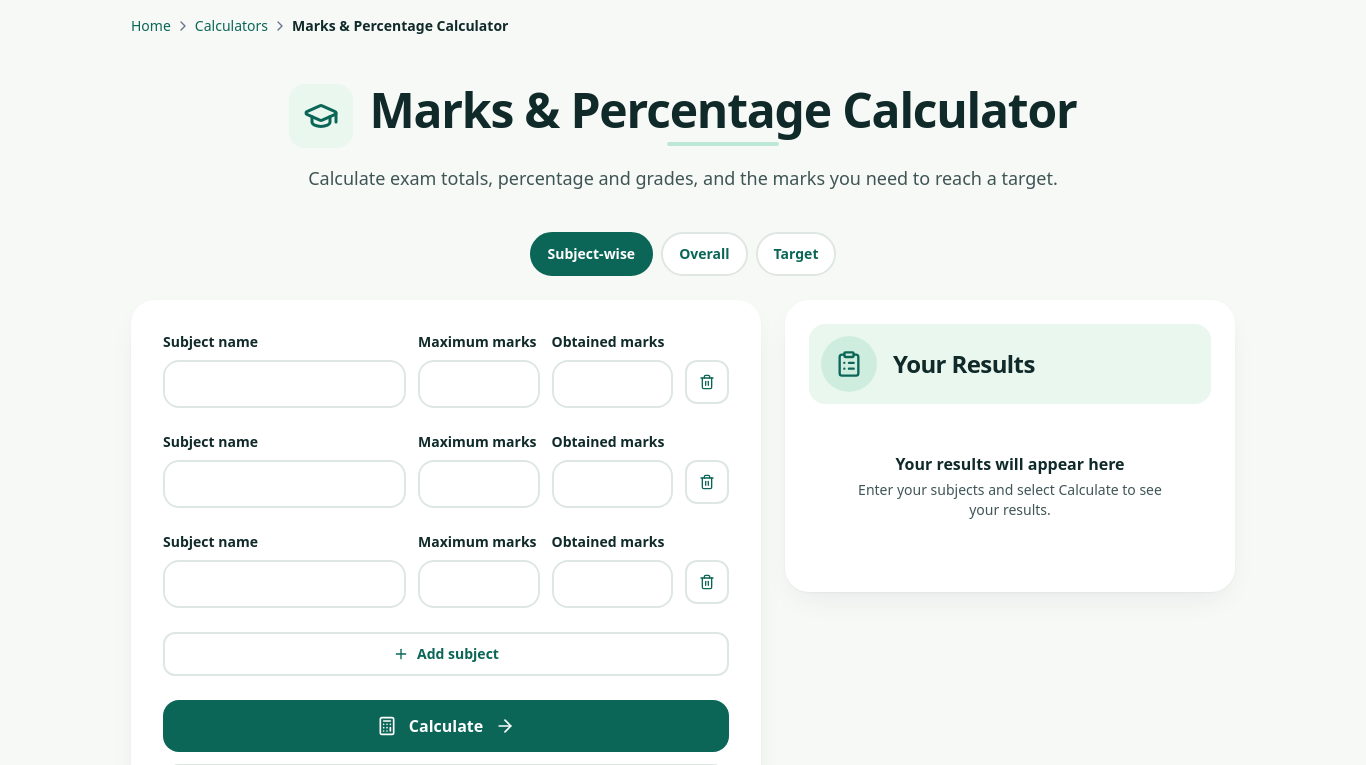
subject-wise mode › removes a subject, but always keeps one
Click the button named "Remove subject 3". click: (707, 582)
box: [685, 560, 729, 604]
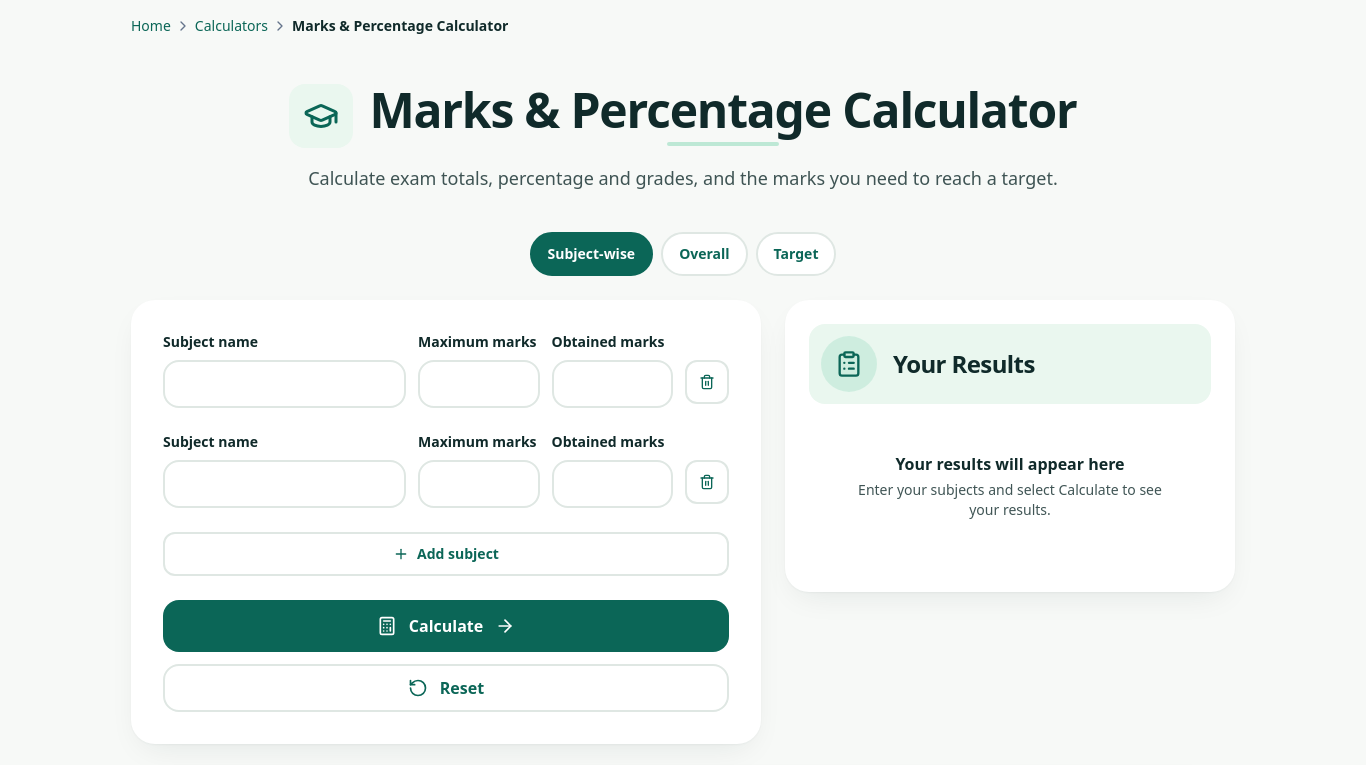
Click the button named "Remove subject 2". click: (707, 482)
box: [685, 460, 729, 504]
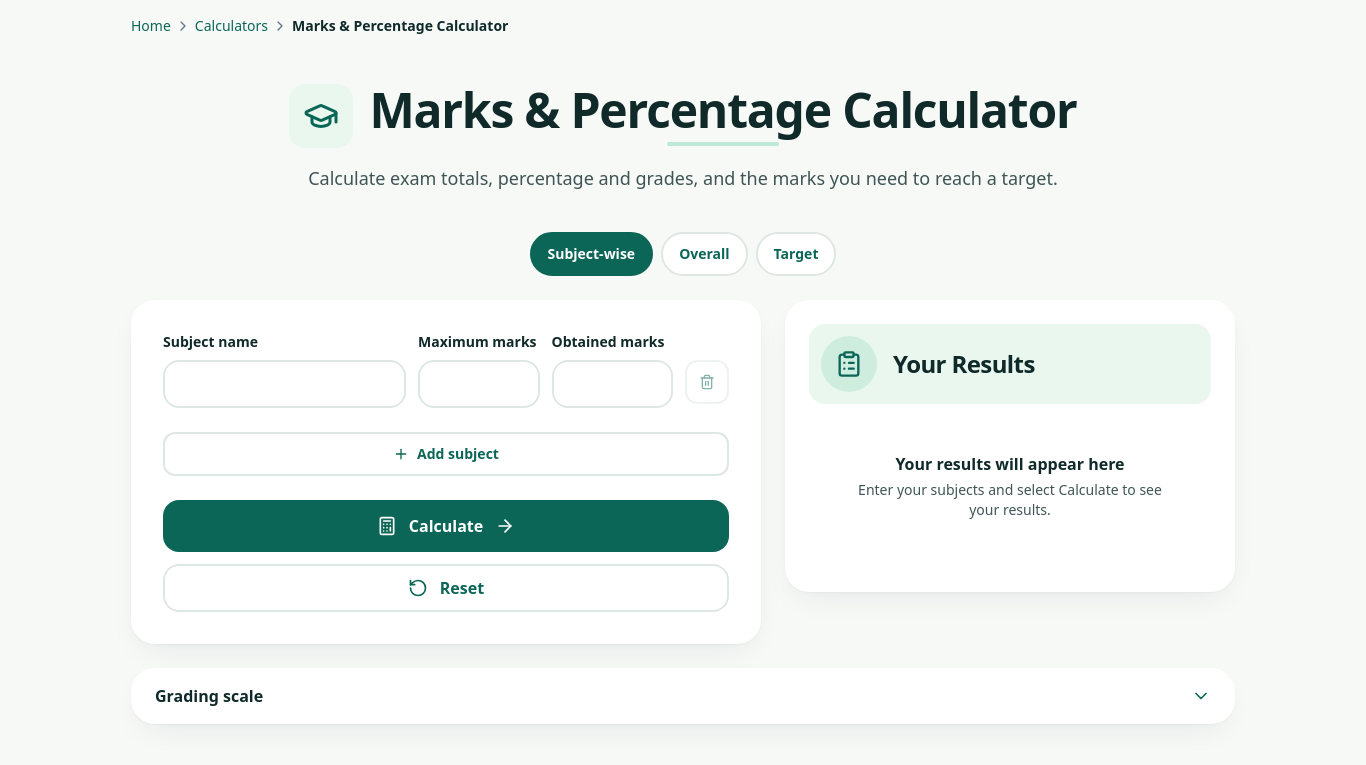
Expected: the field labelled "Subject 2 Subject name" is not shown
Expected: the button named "Remove subject 1" is disabled, [685, 360, 729, 404]
